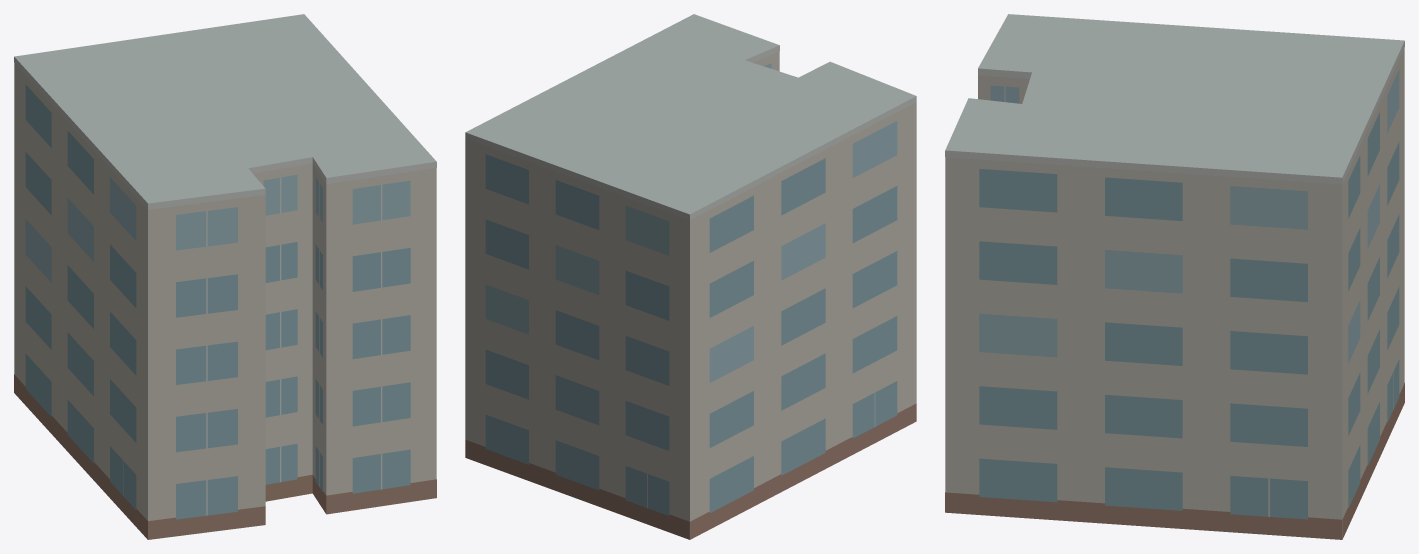
File: survey-upis-32952987.glb
The picture shows the model from 3 angles, left to right: view 1: azimuth 30°, elevation 25°; view 2: azimuth 150°, elevation 25°; view 3: azimuth 270°, elevation 25°; orthographic projection. The views are drawn at different scales.
Visible parts, largest first — view 1: survey-upis-32952987.tmp; view 2: survey-upis-32952987.tmp; view 3: survey-upis-32952987.tmp.
Part boxes in pixels (x1,y1,x2,y2): survey-upis-32952987.tmp: (14,14,436,539); survey-upis-32952987.tmp: (465,14,916,539); survey-upis-32952987.tmp: (945,14,1404,539).
Bounding box in the file's own units: 12.8 × 13.2 × 15.19.
